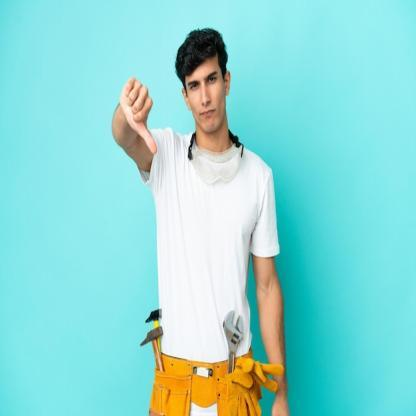thumb_down: (118, 74, 160, 160)
